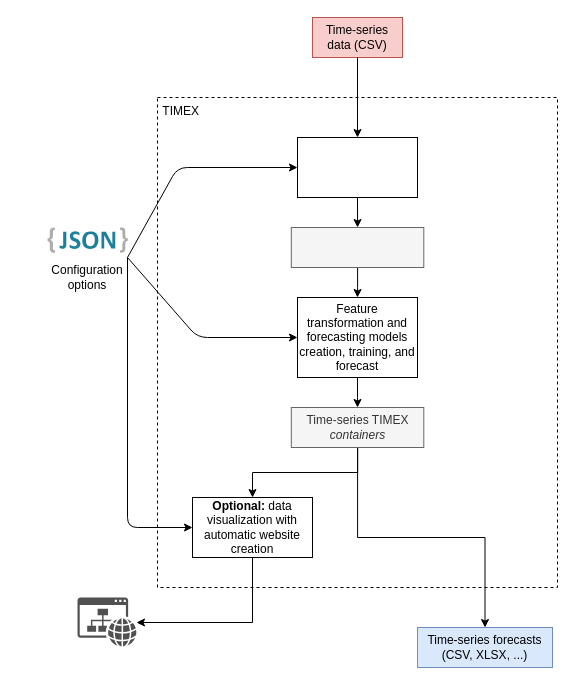
Image size: 575x700. Some labels were removed from this diagram. Here are the shapes that lost their labels. From the top down, the box of each, then its label:
(296, 136, 418, 198): Data ingestion
(290, 226, 424, 268): Time-series data (Pandas DataFrame)
(77, 597, 136, 646): Website with time-series statistics and forecasting results
